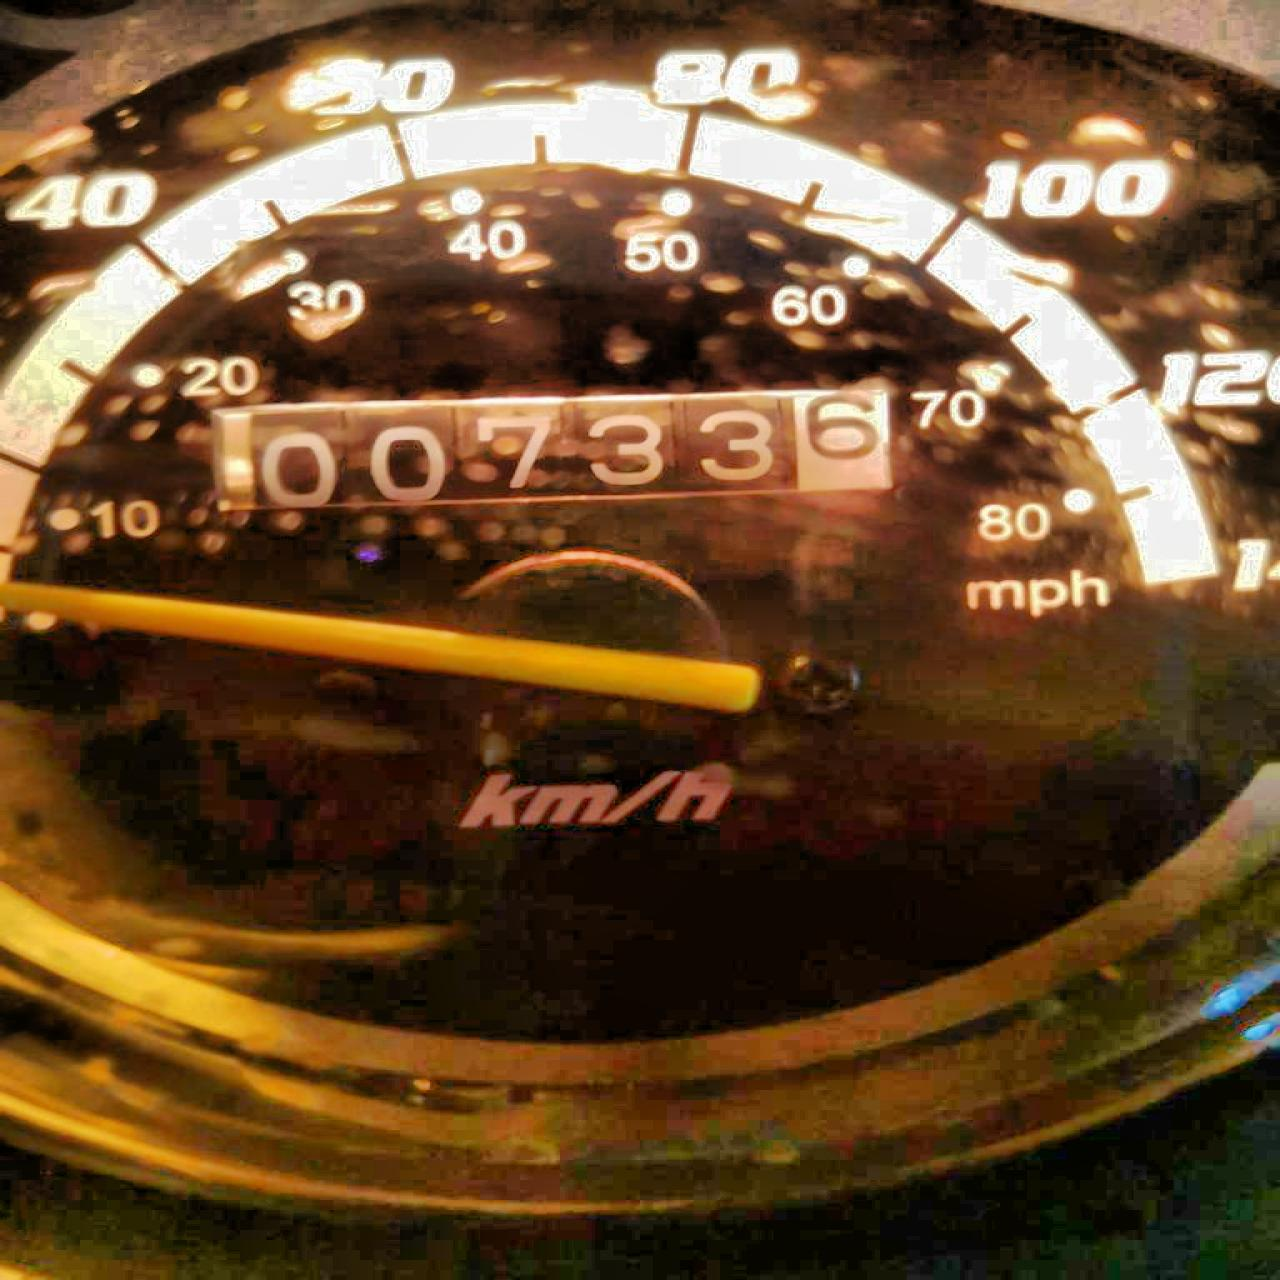0: (248, 418, 345, 523), (368, 416, 454, 504)
3: (581, 402, 670, 491), (695, 404, 775, 501)
6: (798, 388, 893, 477)
7: (461, 402, 561, 499)
odometer: (230, 377, 904, 532)
